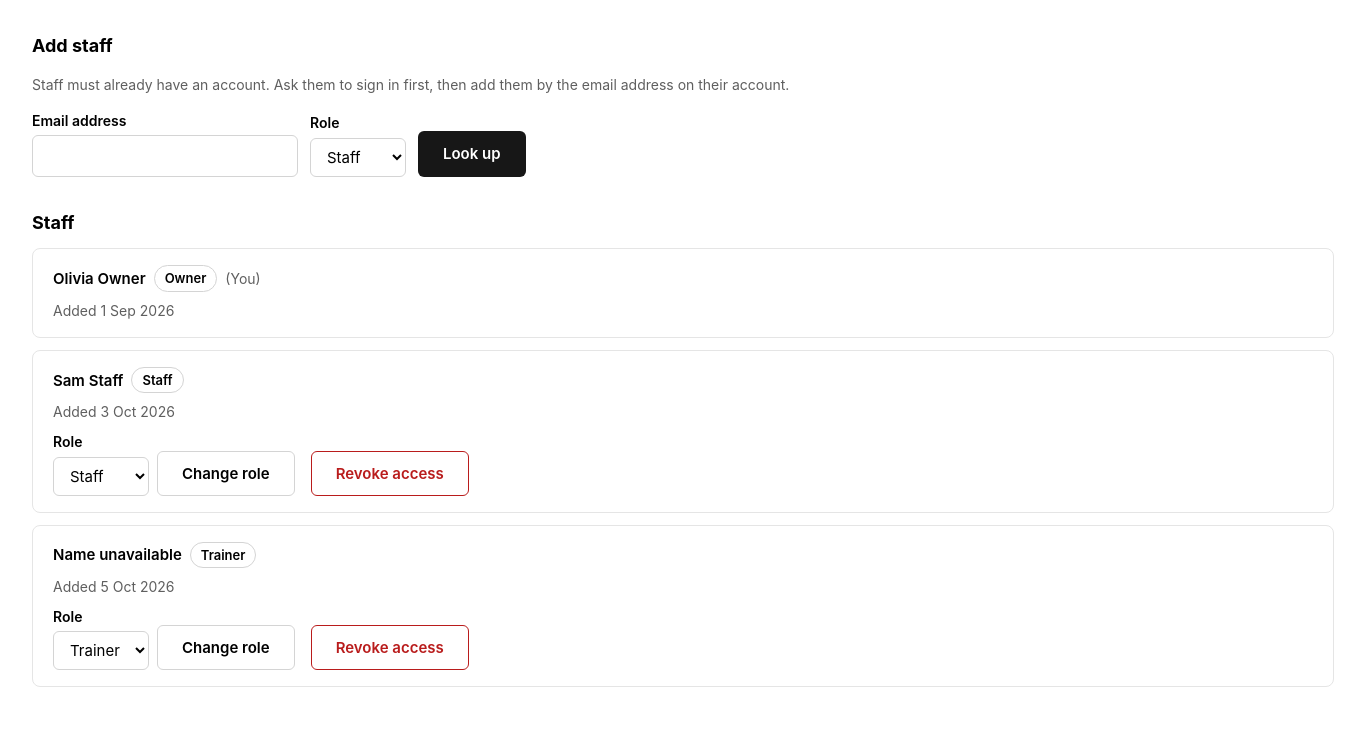
Test: StaffManager as OWNER › shows the existing role and no add button for an existing member
In the field with id "staff-email": (165, 156) [32,135,298,177], type "member@example.com"
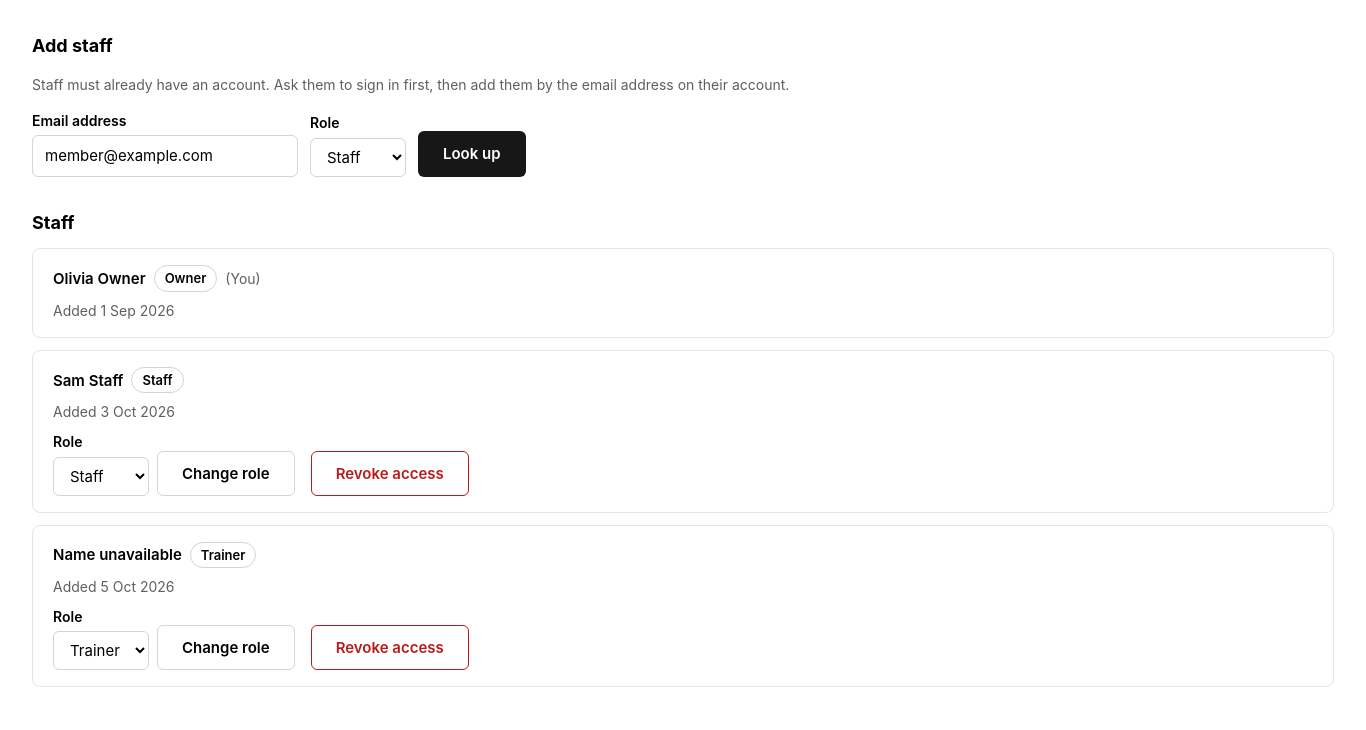
Submit the form with id "staff-email", box [32,112,526,176]
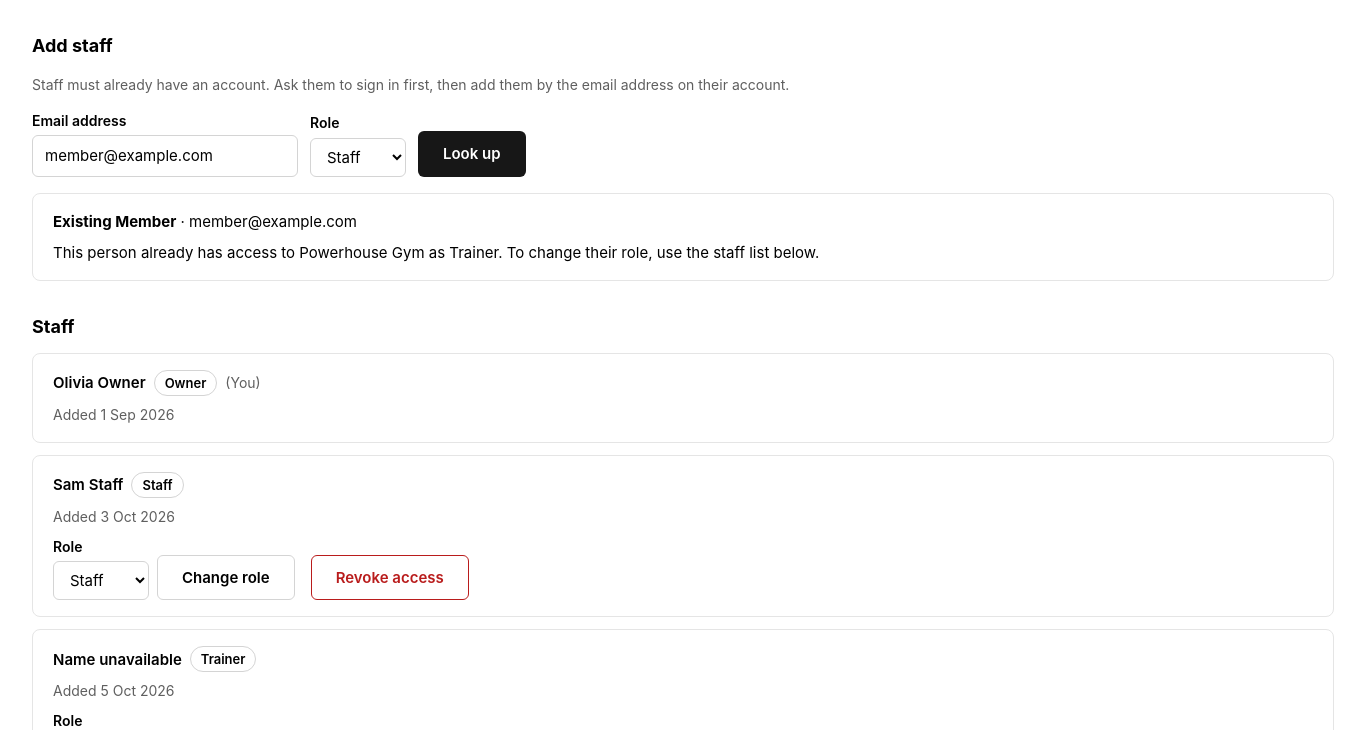
Expected: the text "Trainer" is shown, [449,243,498,262]
Result: the text "already has access" is shown at [53,243,299,262]
